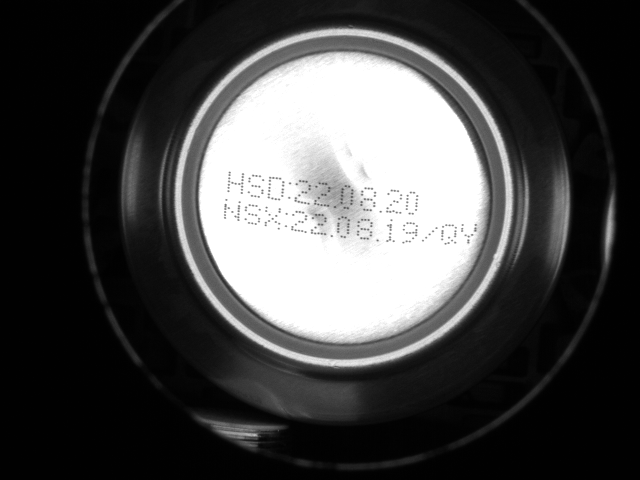/: (419, 220, 438, 244)
0: (327, 214, 352, 240), (331, 184, 354, 209), (403, 187, 422, 215)
1: (380, 217, 397, 244)
2: (378, 183, 403, 213), (308, 179, 332, 210), (286, 174, 309, 203), (282, 208, 304, 233), (307, 210, 325, 235)
8: (353, 216, 377, 241), (357, 184, 376, 211)
9: (399, 218, 418, 245)
D: (262, 173, 284, 199)
H: (218, 165, 244, 194)
N: (215, 197, 240, 223)
Q: (437, 222, 458, 246)
S: (243, 169, 266, 198), (239, 200, 259, 225)
X: (260, 204, 279, 229)
Y: (457, 221, 478, 246)
